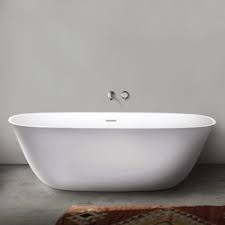bathub: (5, 106, 225, 197)
